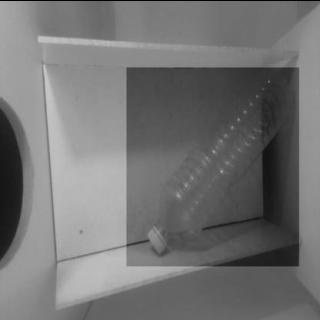plastic_bottles: (127, 67, 299, 265)
